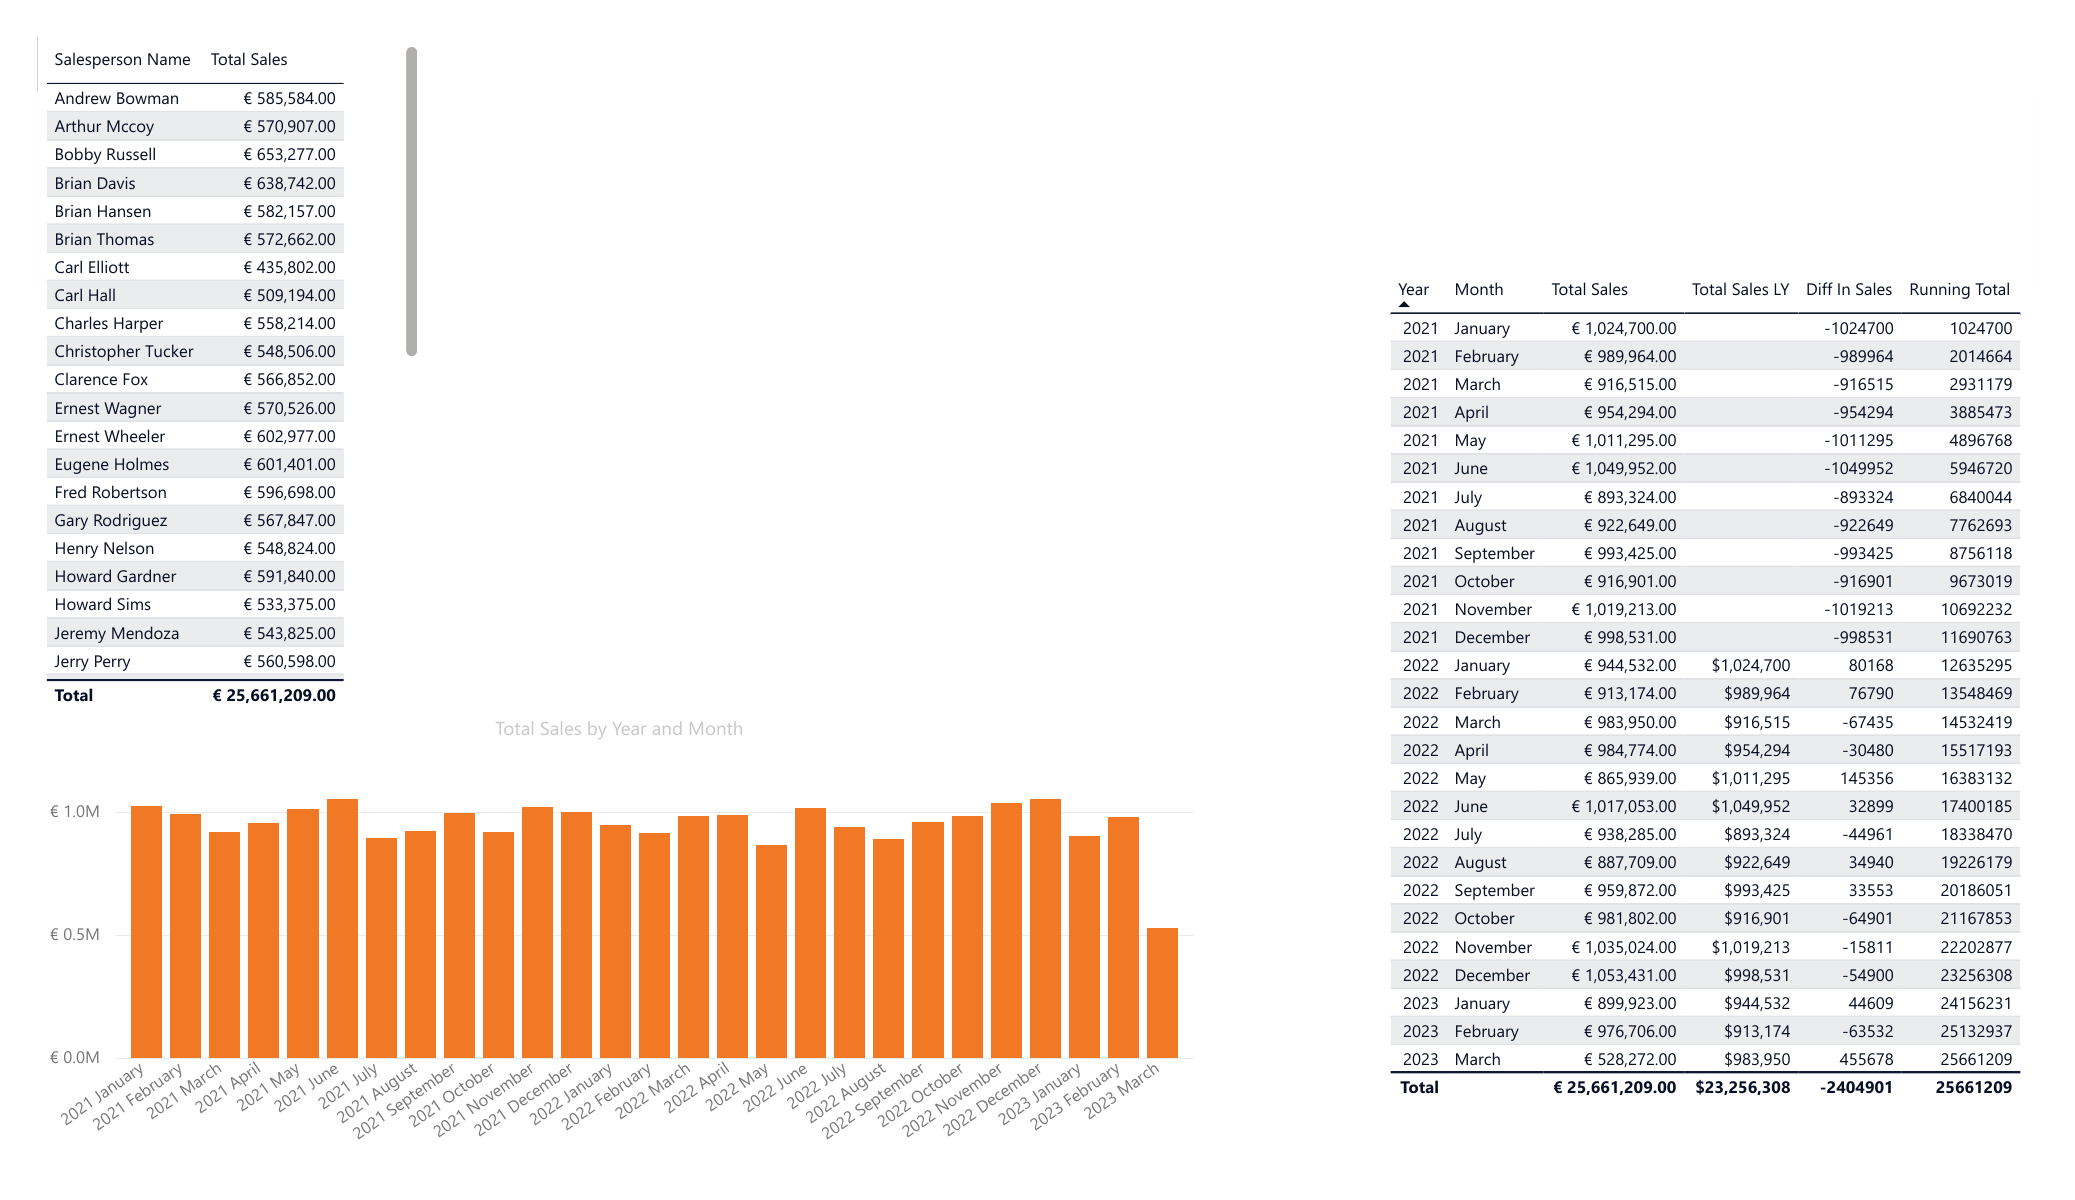

The page's visual inventory and layout, read from the dashboard file:
{"tool":"powerbi","page":{"name":"Working page","canvas":[1280,720],"ordinal":0},"visuals":[{"type":"clusteredColumnChart","fields":{"Category":["Dates.Date.Variation.Date Hierarchy.Year","Dates.Date.Variation.Date Hierarchy.Month"],"Y":["MeasureTbl.Total Sales"]},"box":[0,433.7,744.9,286.5],"z":1000},{"type":"tableEx","fields":{"Values":["Dates.Date.Variation.Date Hierarchy.Year","Dates.Date.Variation.Date Hierarchy.Month","MeasureTbl.Total Sales","MeasureTbl.Total Sales LY","MeasureTbl.Diff In Sales","MeasureTbl.Running Total","select","select1"]},"box":[860.4,147.2,419.6,573],"z":5000},{"type":"tableEx","fields":{"Values":["Salespeople.Salesperson Name","MeasureTbl.Total Sales"]},"box":[0,0,248.6,433.7],"z":5001}]}

Visuals, with their boxes on the page's 1280x720 design canvas (x1, y1, x2, y2). These are canvas units, not pixel positions in the 2075x1200 screenshot, which may show the page scaled, cropped or inside an application window:
clusteredColumnChart - Dates.Date.Variation.Date Hierarchy.Year x Dates.Date.Variation.Date Hierarchy.Month: (0, 434, 745, 720)
tableEx - Dates.Date.Variation.Date Hierarchy.Year x Dates.Date.Variation.Date Hierarchy.Month: (860, 147, 1280, 720)
tableEx - Salespeople.Salesperson Name x MeasureTbl.Total Sales: (0, 0, 249, 434)
